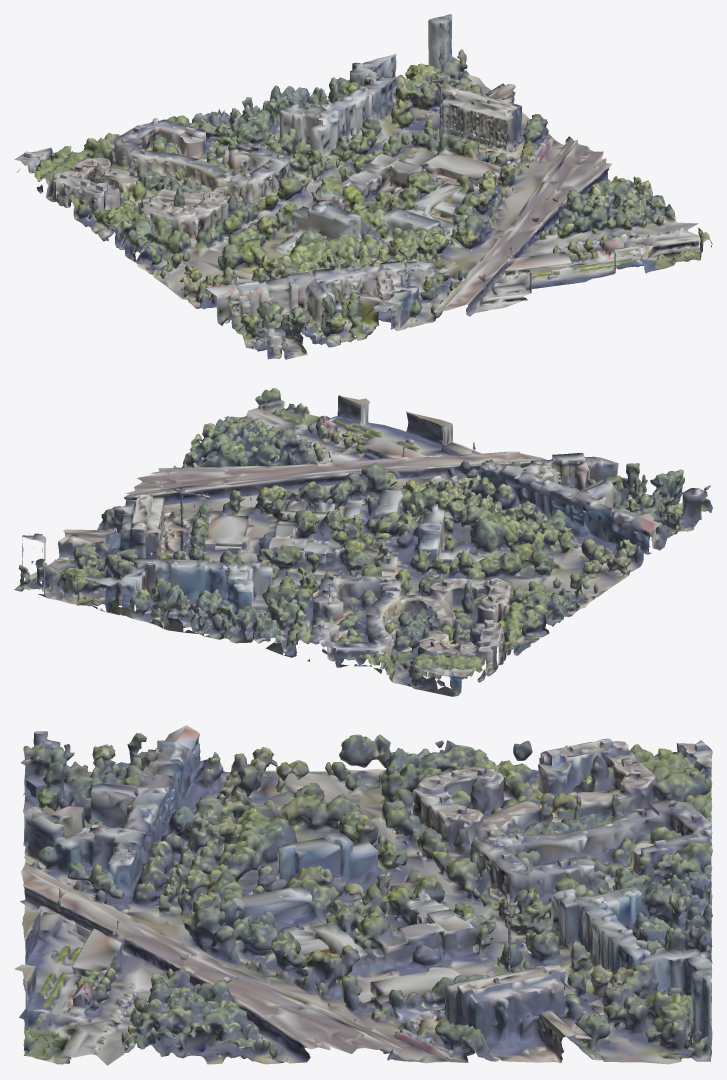
File: tile-3887_58203.glb
3 renders of one model, top to bottom at view 1: azimuth 30°, elevation 25°; view 2: azimuth 150°, elevation 25°; view 3: azimuth 270°, elevation 25°, orthographic. The views are drawn at different scales.
Visible parts, largest first — view 1: world; view 2: world; view 3: world.
Part boxes in pixels (x1,y1,x2,y2): world: (14, 14, 712, 359); world: (14, 388, 712, 696); world: (14, 725, 712, 1065).
Size of the model in its own units: 379 by 56.67 by 367.
